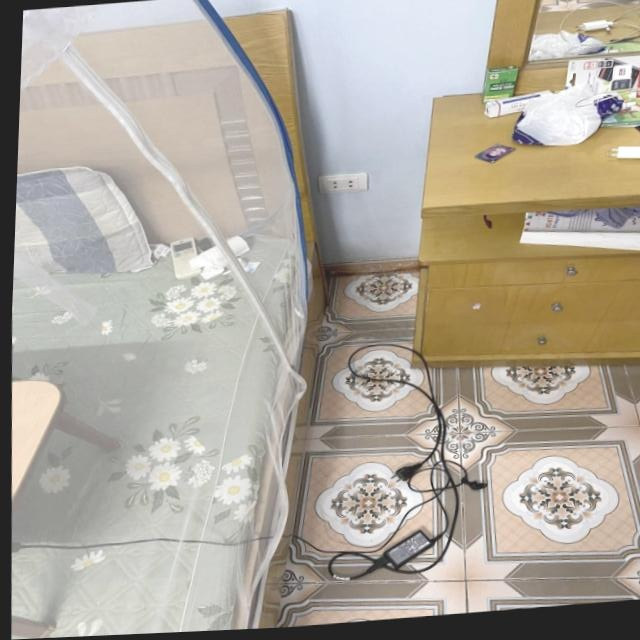outlet: (317, 173, 369, 196)
